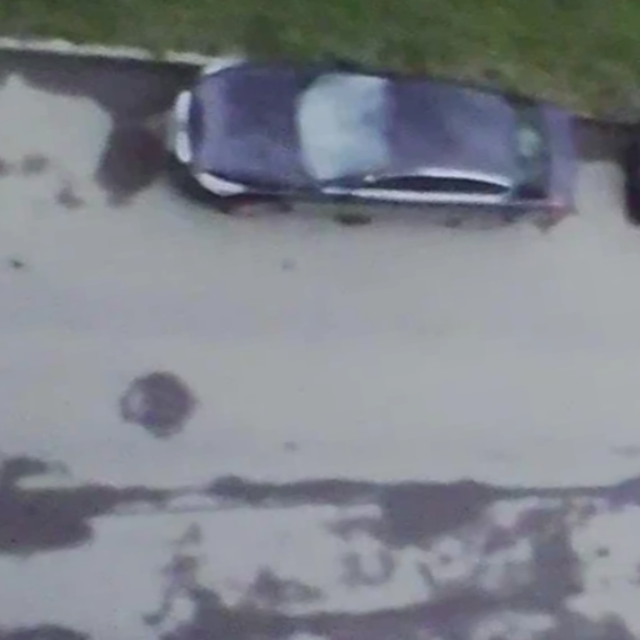car: (167, 53, 574, 228)
